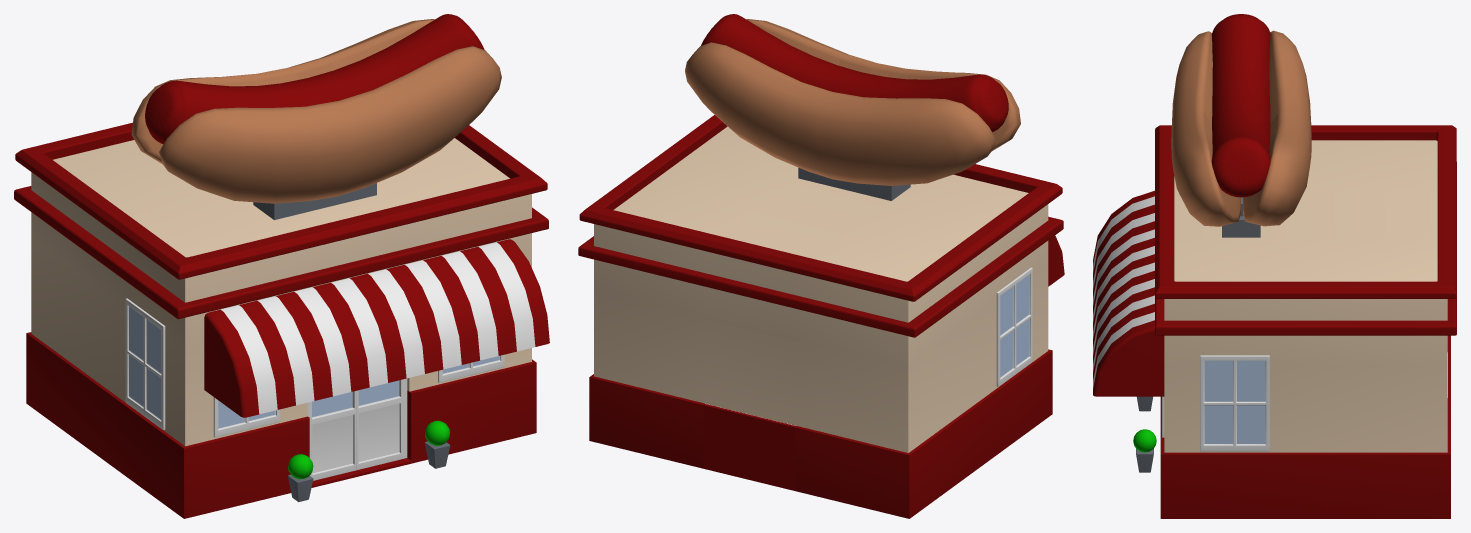
Rendered from HotdogBuilding.fbx.
3 renders of one model, left to right at view 1: azimuth 30°, elevation 25°; view 2: azimuth 150°, elevation 25°; view 3: azimuth 270°, elevation 25°, orthographic. The views are drawn at different scales.
Parts seen in each view (by area): view 1: hotdog house; view 2: hotdog house; view 3: hotdog house.
Boxes of the visible parts, x1,y1,x2,y2 form: hotdog house: (14, 14, 549, 518); hotdog house: (578, 14, 1064, 518); hotdog house: (1093, 14, 1456, 518).
Bounding box in the file's own units: 2086 × 2113 × 1924.
